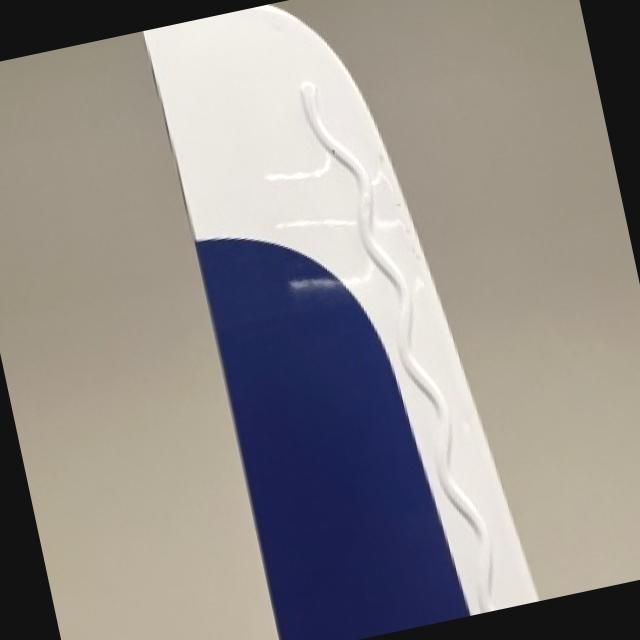healthy: (141, 3, 536, 640)
